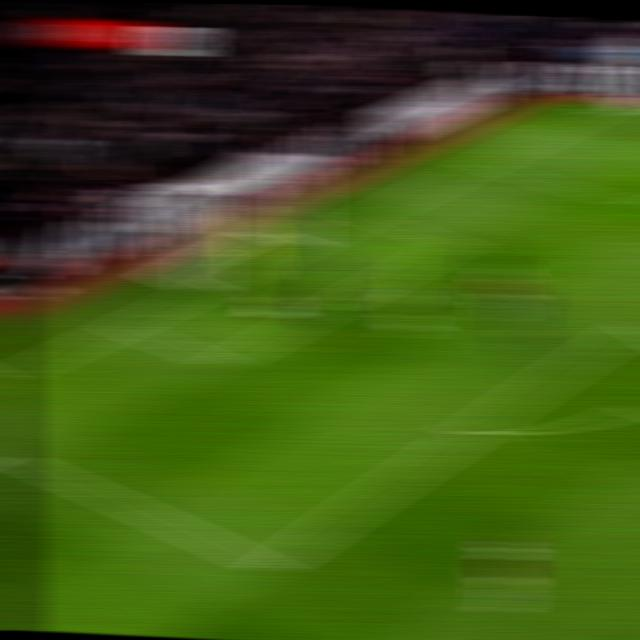bigarea_bottom_inner: (246, 550, 293, 584)
bigarea_top_outter: (462, 156, 498, 171)
bottom_arc_area_intersection: (452, 416, 494, 445)
corner: (583, 103, 622, 115)
smallarea_bottom_inner: (199, 347, 243, 378)
smallarea_bottom_outter: (101, 314, 144, 337)
smallarea_top_inner: (434, 233, 473, 253)
smallarea_top_outter: (347, 208, 385, 226)
